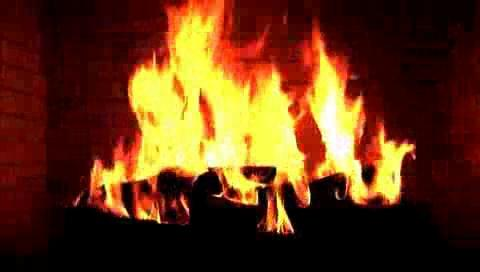fire: (117, 21, 405, 217)
